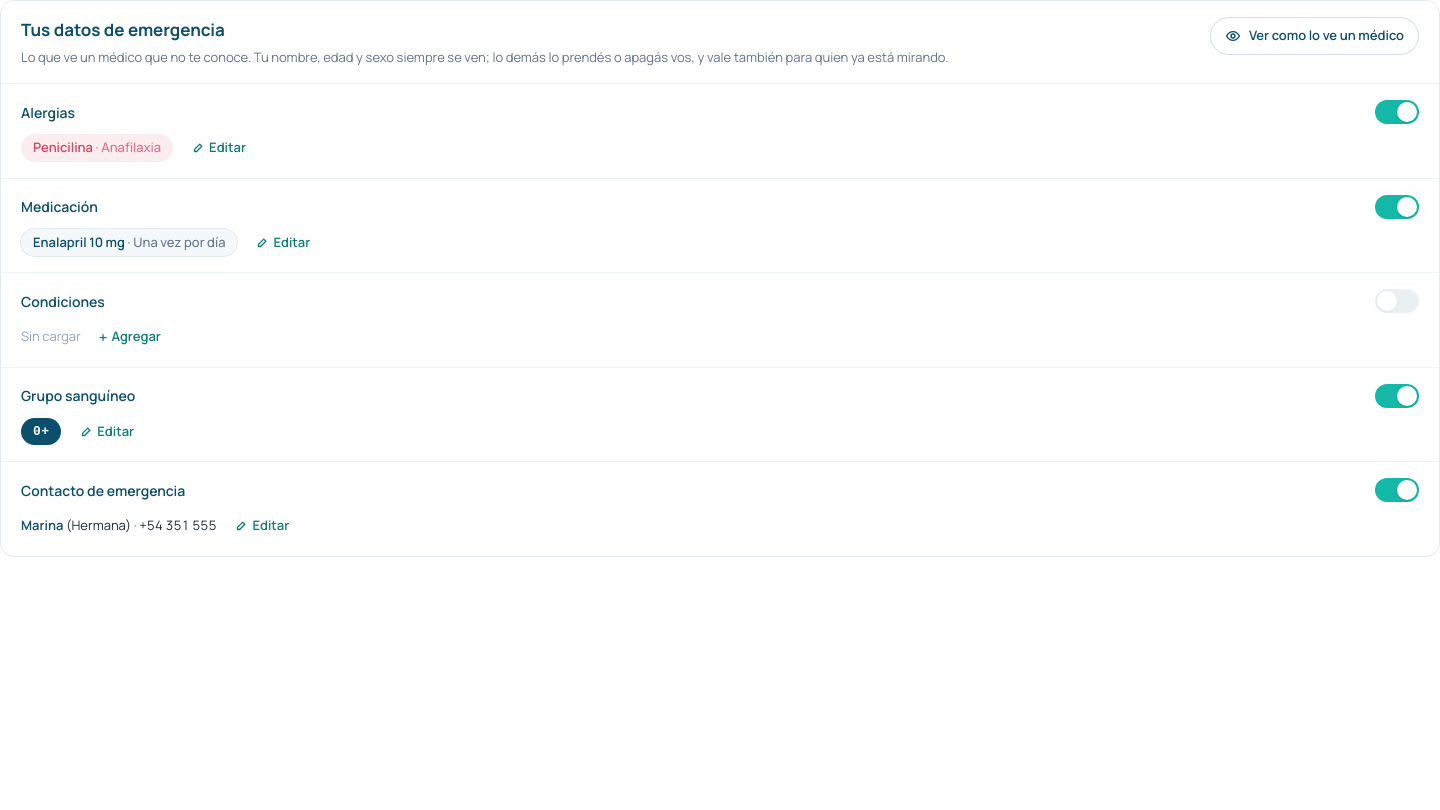
Test: EmergencyData › apagar un bloque guarda el scope entero con PUT
Click the switch named "Medicación" in the row of "Medicación".
click(1397, 207)  # box [1375, 195, 1419, 219]
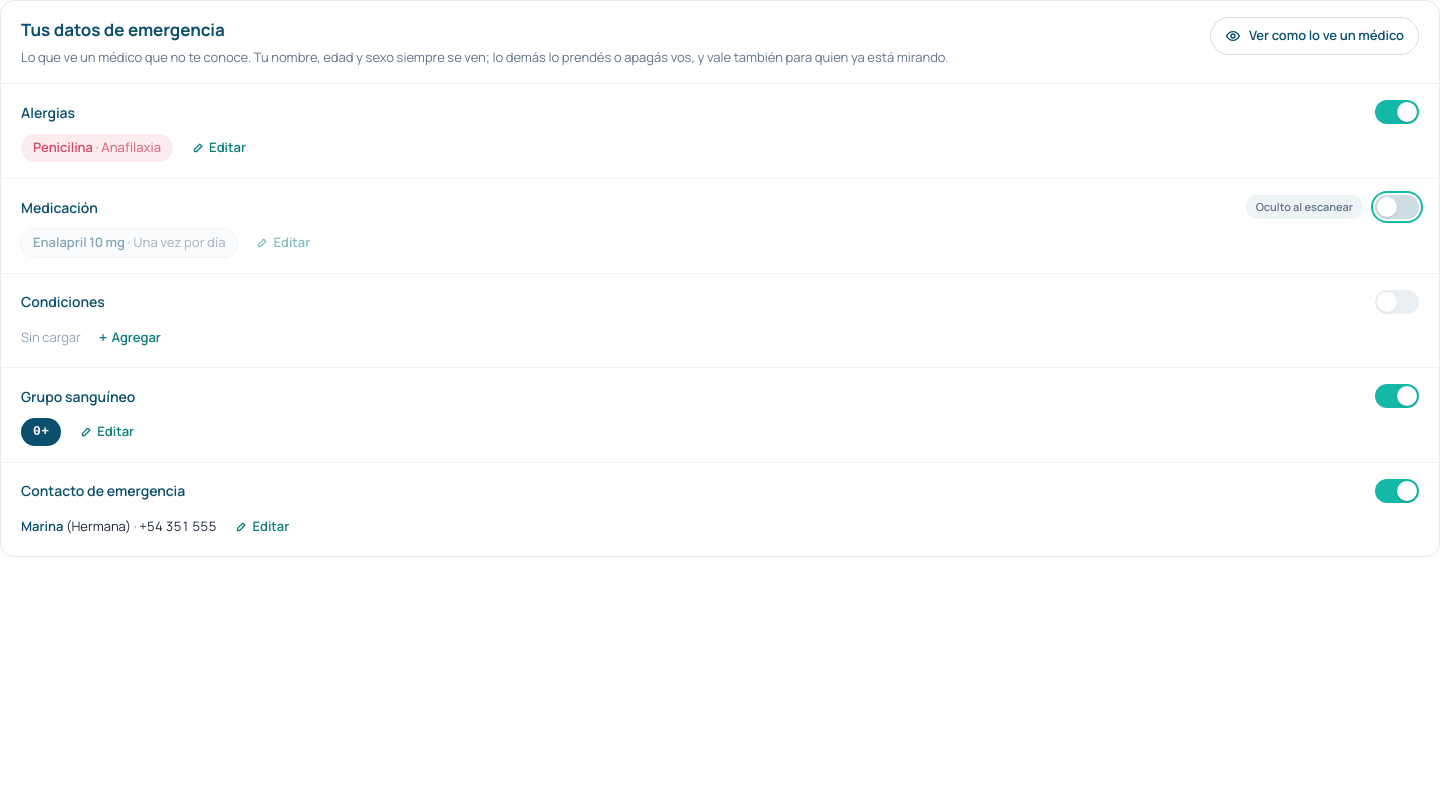
Check: the switch named "Medicación" is not checked, box [1375, 195, 1419, 219]
Check: the text "Oculto al escanear" is shown, box [1246, 195, 1363, 219]
